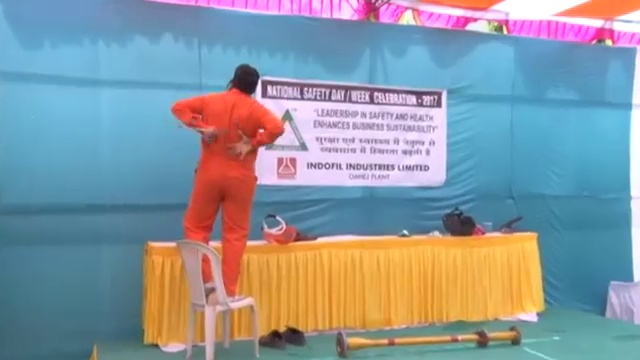helmet_off: (225, 60, 261, 97)
person: (161, 62, 289, 306)
